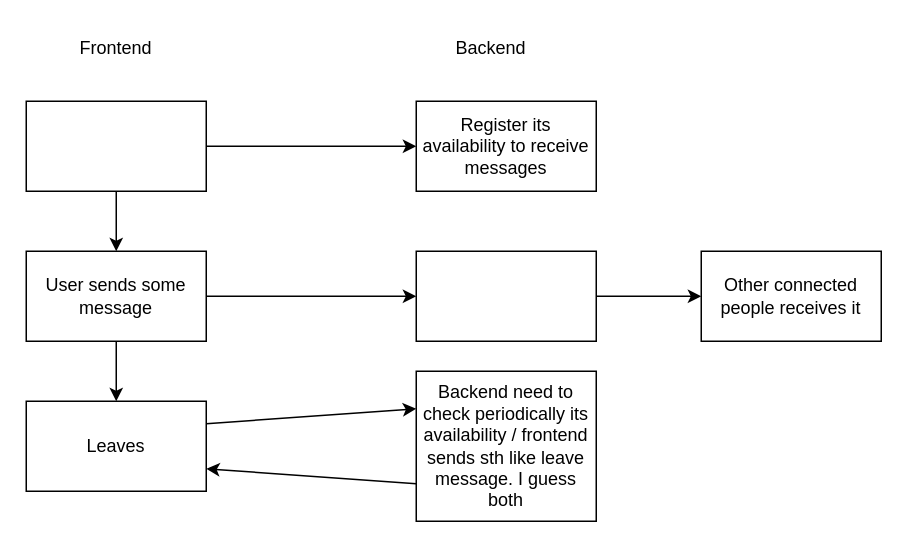
Some shapes in this 908 by 548 pixel diagram are drawn without their labels. Each missing label, with the centre of its shape:
"Backend receives it saves data and sends to the rest of people" belongs at (505,295).
"Connects" belongs at (115,145).
